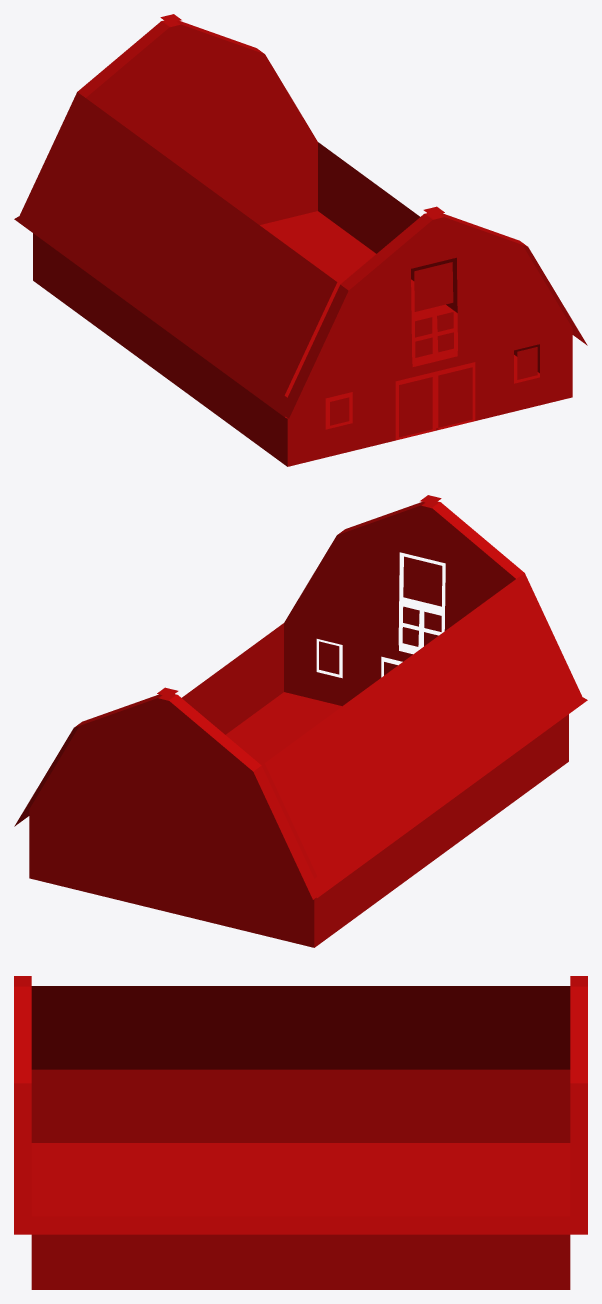
File: scheune_redpart.fbx
3 views of the same model, one above another, from view 1: azimuth 30°, elevation 25°; view 2: azimuth 150°, elevation 25°; view 3: azimuth 270°, elevation 25° (orthographic). The views are drawn at different scales.
Visible parts, largest first — view 1: polySurface6; view 2: polySurface6; view 3: polySurface6.
Boxes of the visible parts, x1,y1,x2,y2 form: polySurface6: (14,14,587,466); polySurface6: (14,495,587,947); polySurface6: (14,976,587,1289).
Size of the model in its own units: 8.54 by 6.04 by 13.27.
